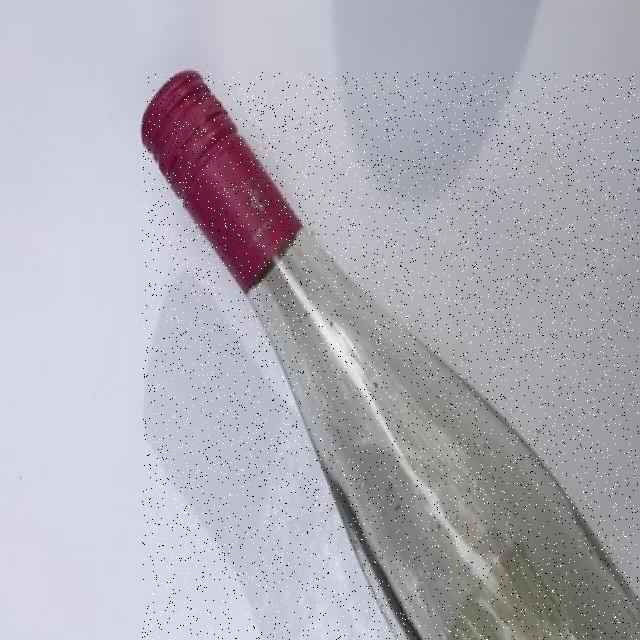glass: (142, 72, 639, 640)
